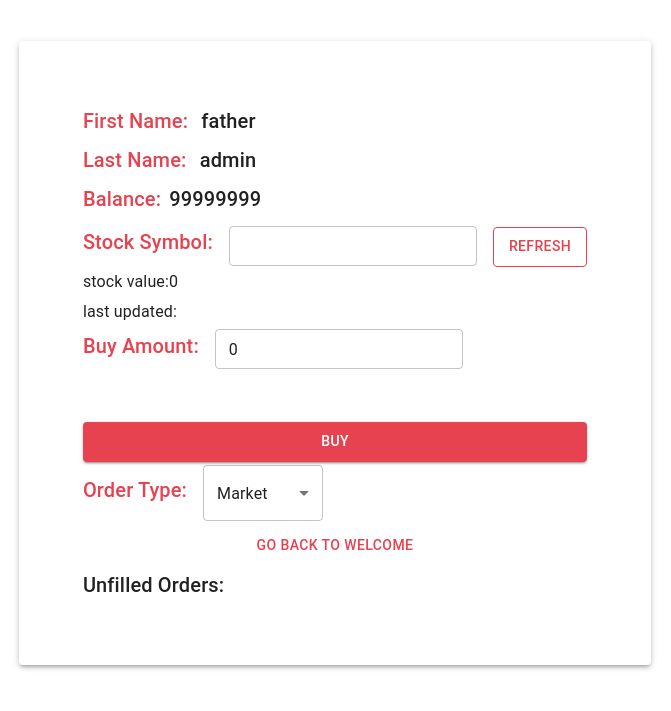
Scenario: Test Buy component › shows error message when buy amount is not entered
Step 1. Type "AAPL" into the field labelled "Stock Symbol:" → (353, 246), box x1=229 y1=226 x2=477 y2=266
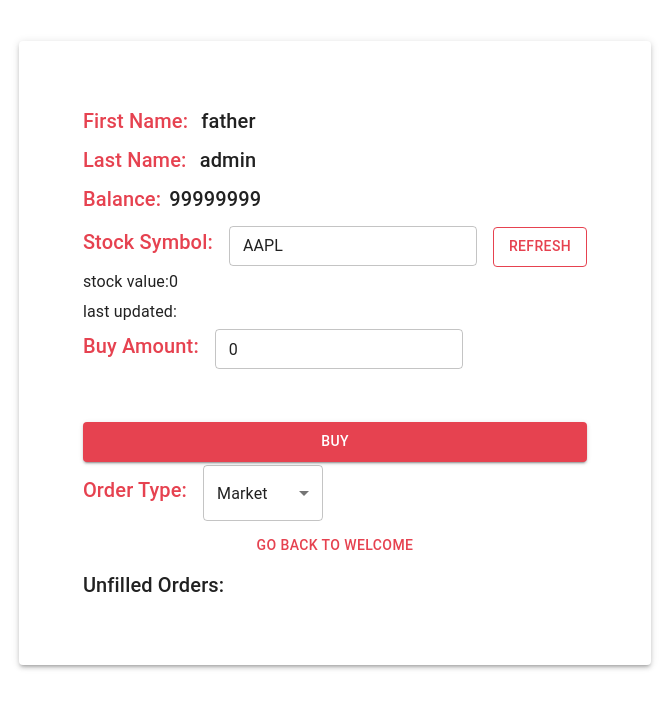
Step 2. Click the button "Buy" → (335, 442), box x1=83 y1=422 x2=587 y2=462
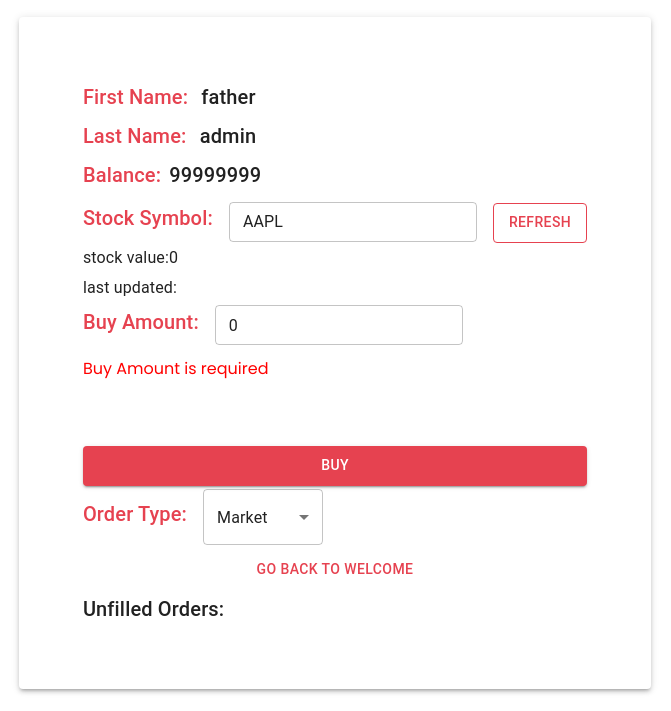
Now the text "Buy Amount is required" is shown, box x1=83 y1=357 x2=268 y2=380
